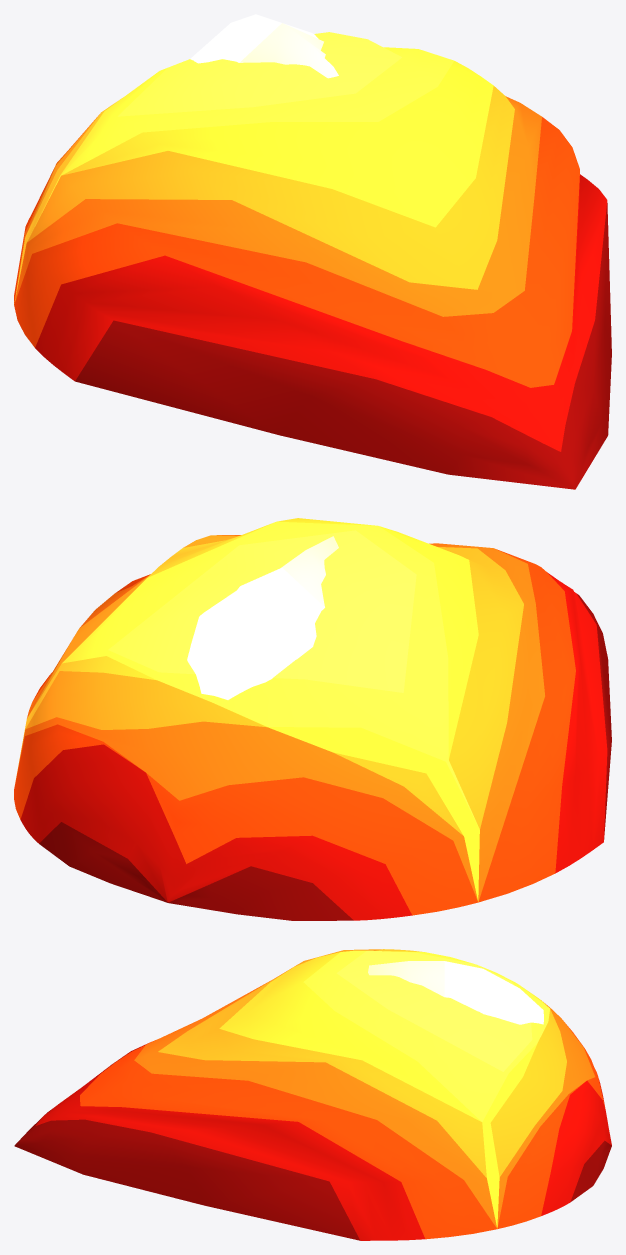
Rendered from shot_special_blast.glb.
3 renders of one model, top to bottom at view 1: azimuth 30°, elevation 25°; view 2: azimuth 150°, elevation 25°; view 3: azimuth 270°, elevation 25°, orthographic. The views are drawn at different scales.
Parts seen in each view (by area): view 1: shot_special_blast_fire, shot_special_blast_core; view 2: shot_special_blast_fire, shot_special_blast_core; view 3: shot_special_blast_fire, shot_special_blast_core.
Part boxes in pixels (box(x1,y1,x2,y2)): shot_special_blast_fire: box(14, 32, 611, 489); shot_special_blast_core: box(190, 14, 338, 78); shot_special_blast_fire: box(14, 518, 611, 920); shot_special_blast_core: box(187, 536, 338, 699); shot_special_blast_fire: box(14, 949, 611, 1240); shot_special_blast_core: box(368, 961, 543, 1024).
Bounding box in the file's own units: 9 × 4.1 × 12.
